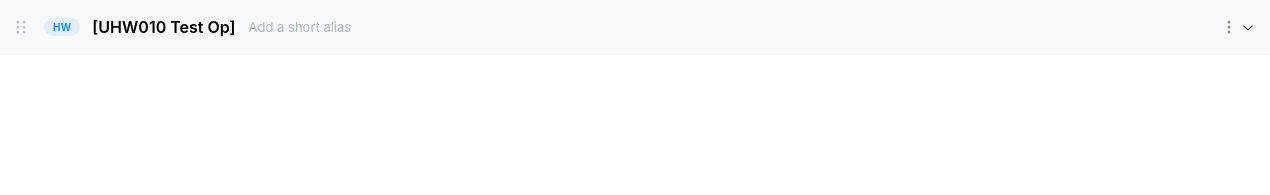
Test: UnitOpAccordion + actions menu › opens the actions menu without toggling the Accordion (stopPropagation)
Click the button named "Unit Operation actions" at (1229, 27), box [1218, 16, 1240, 38]
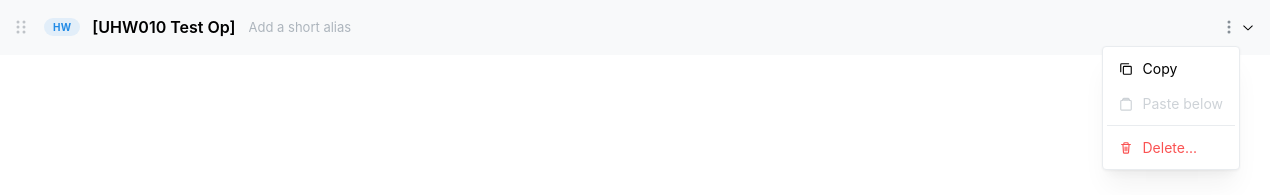
Check: the menu item "Copy" is shown, box [1106, 51, 1235, 86]
Check: the menu item "Paste below" is shown, box [1106, 86, 1235, 121]
Check: the menu item "Delete..." is shown, box [1106, 130, 1235, 165]
